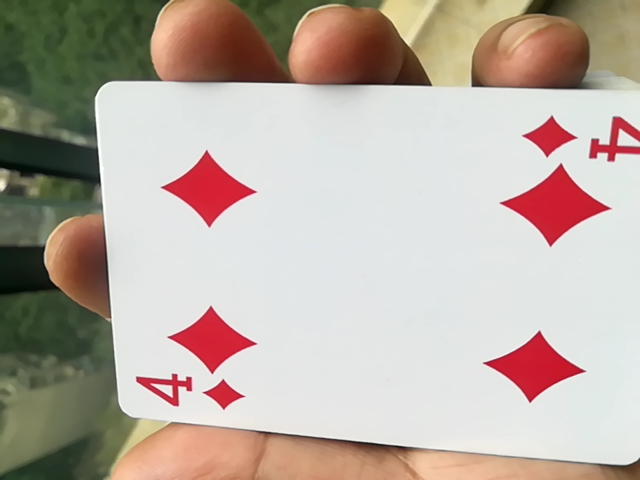fk 4: (83, 92, 636, 473)
